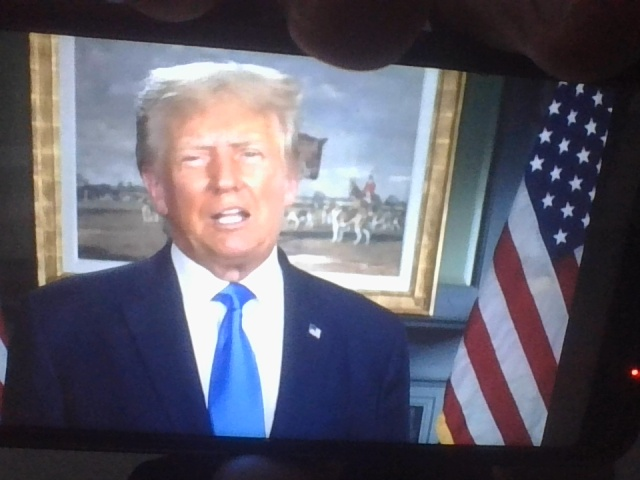fake: (148, 38, 317, 277)
